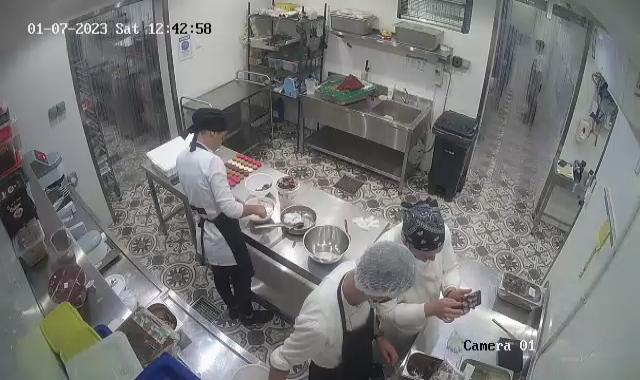hairnet: (353, 242, 418, 300)
no_hairnet: (400, 201, 447, 256), (195, 108, 229, 144)
